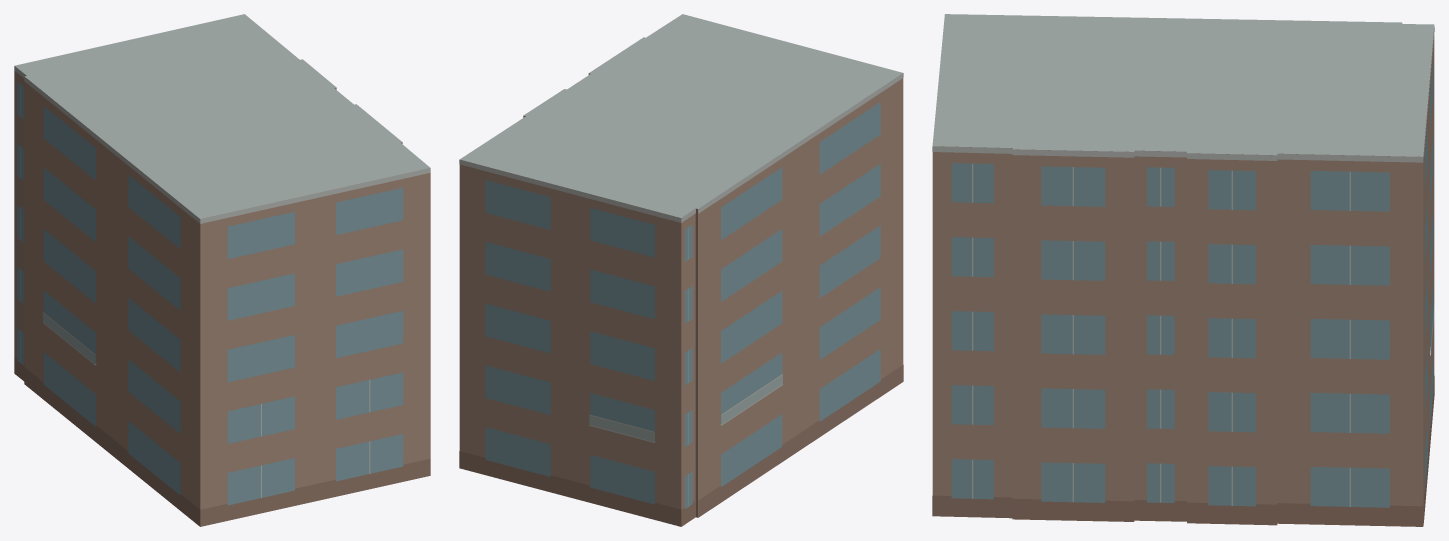
The model's file is survey-upis-32654376.glb.
3 renders of one model, left to right at view 1: azimuth 30°, elevation 25°; view 2: azimuth 150°, elevation 25°; view 3: azimuth 270°, elevation 25°, orthographic. The views are drawn at different scales.
Parts seen in each view (by area): view 1: survey-upis-32654376.tmp; view 2: survey-upis-32654376.tmp; view 3: survey-upis-32654376.tmp.
Part boxes in pixels (x1,y1,x2,y2): survey-upis-32654376.tmp: (14, 14, 430, 526); survey-upis-32654376.tmp: (459, 14, 903, 526); survey-upis-32654376.tmp: (932, 14, 1434, 526).
Bounding box in the file's own units: 12.86 × 15.52 × 19.09.
